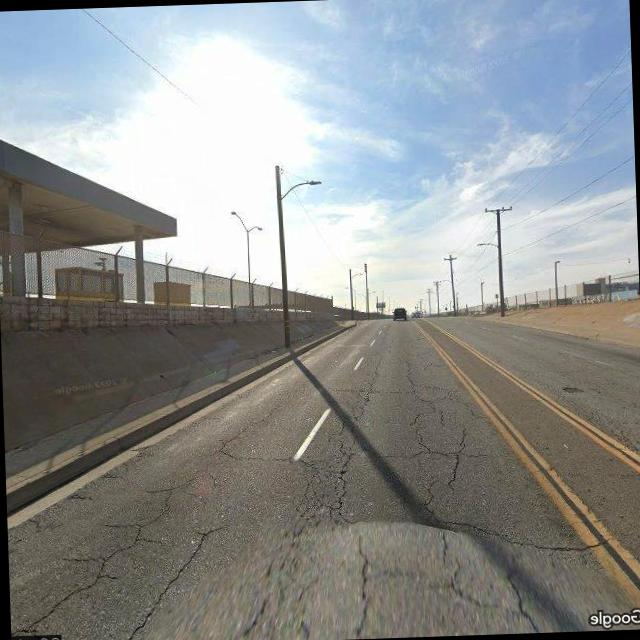crack: (17, 356, 618, 640)
